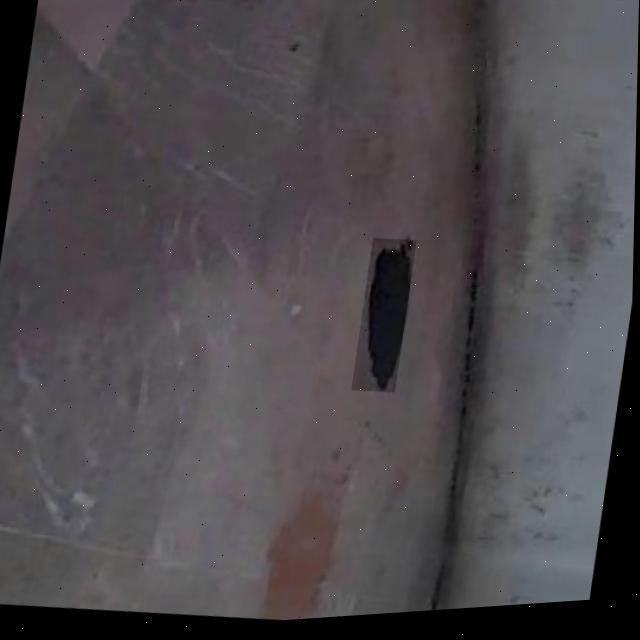spillage: (363, 246, 409, 396)
